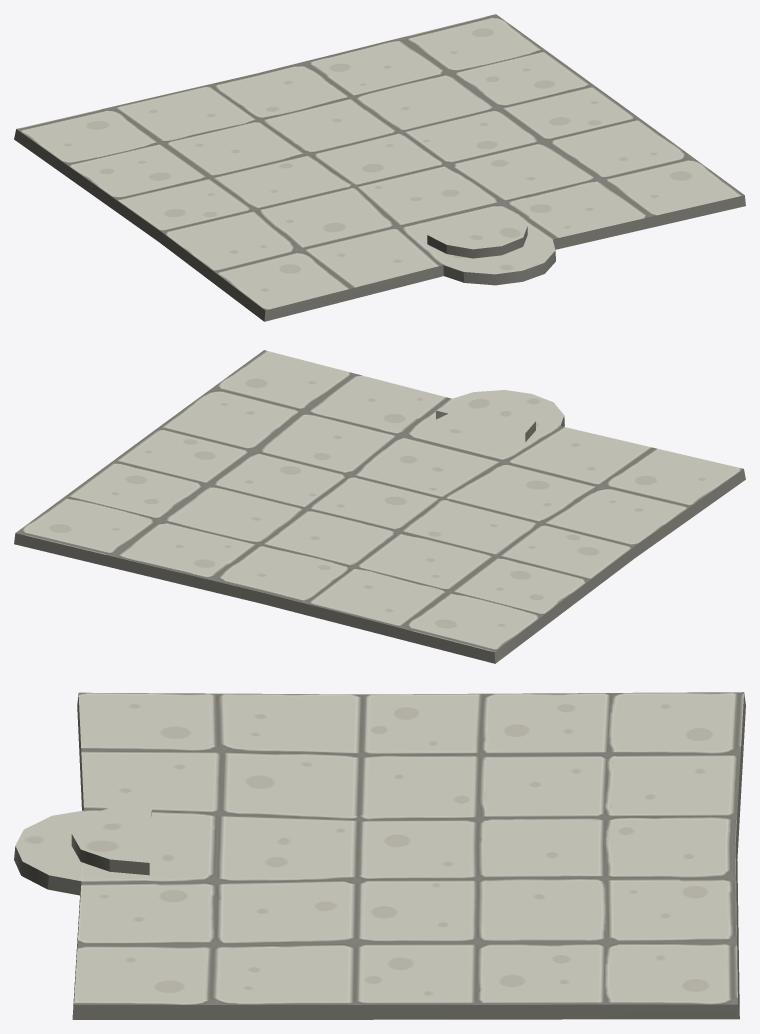
File: building_variety_ground_lv5.FBX
The picture shows the model from 3 angles, top to bottom: view 1: azimuth 30°, elevation 25°; view 2: azimuth 150°, elevation 25°; view 3: azimuth 270°, elevation 25°; orthographic projection. The views are drawn at different scales.
Parts seen in each view (by area): view 1: building_variety_ground_lv5; view 2: building_variety_ground_lv5; view 3: building_variety_ground_lv5.
Boxes of the visible parts, x1,y1,x2,y2 form: building_variety_ground_lv5: [14, 14, 745, 321]; building_variety_ground_lv5: [14, 350, 745, 663]; building_variety_ground_lv5: [14, 692, 745, 1019].
Bounding box in the file's own units: 515 × 20.34 × 507.
